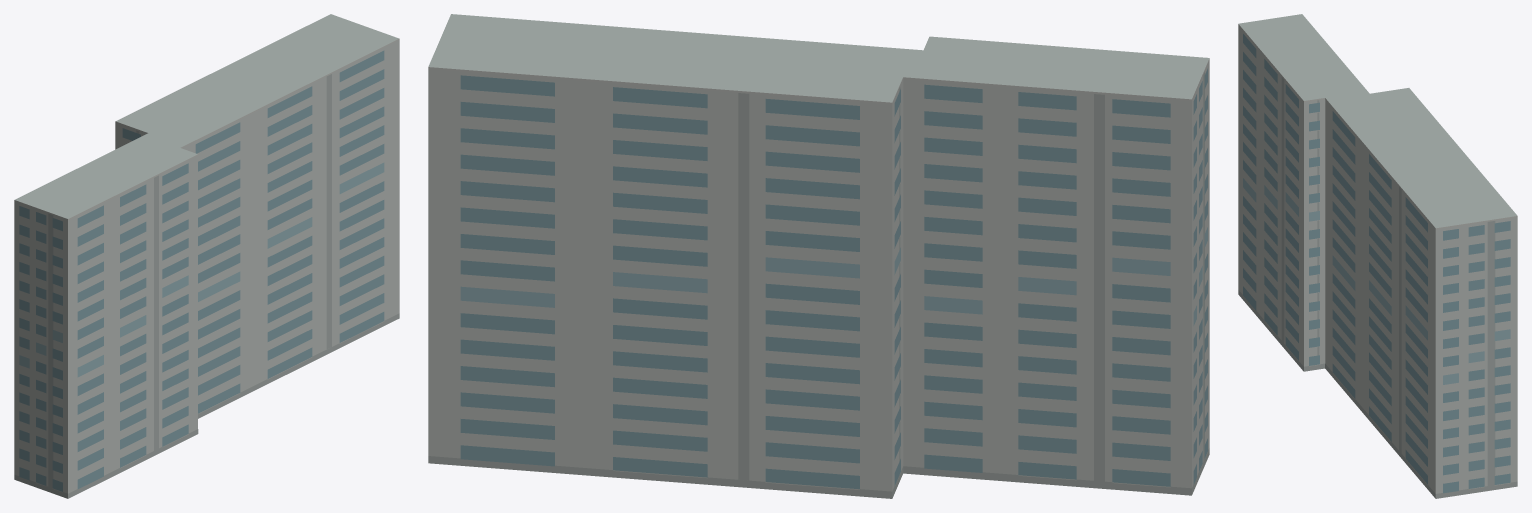
Rendered from residential-b016eae7-9ce5-42f6-a3cf-5eaac804b38c.glb.
3 renders of one model, left to right at view 1: azimuth 30°, elevation 25°; view 2: azimuth 150°, elevation 25°; view 3: azimuth 270°, elevation 25°, orthographic. The views are drawn at different scales.
Visible parts, largest first — view 1: residential-b016eae7-9ce5-42f6-a3cf-5eaac804b38c.tmp; view 2: residential-b016eae7-9ce5-42f6-a3cf-5eaac804b38c.tmp; view 3: residential-b016eae7-9ce5-42f6-a3cf-5eaac804b38c.tmp.
Boxes of the visible parts, x1,y1,x2,y2 form: residential-b016eae7-9ce5-42f6-a3cf-5eaac804b38c.tmp: (14, 14, 399, 498); residential-b016eae7-9ce5-42f6-a3cf-5eaac804b38c.tmp: (428, 14, 1209, 498); residential-b016eae7-9ce5-42f6-a3cf-5eaac804b38c.tmp: (1238, 14, 1517, 498).
Bounding box in the file's own units: 77.7 × 45.75 × 42.82.
